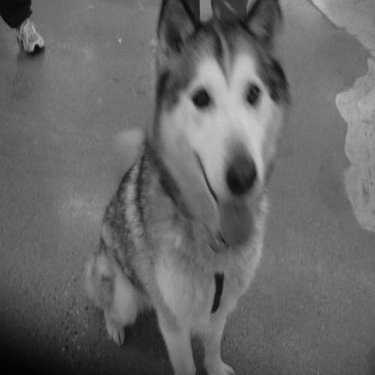dog: (80, 1, 292, 374)
